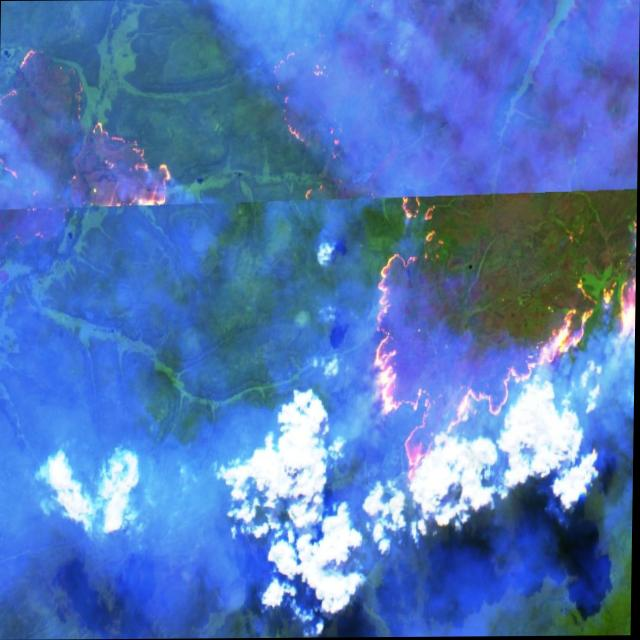fire: (365, 178, 638, 501), (0, 33, 179, 222)
